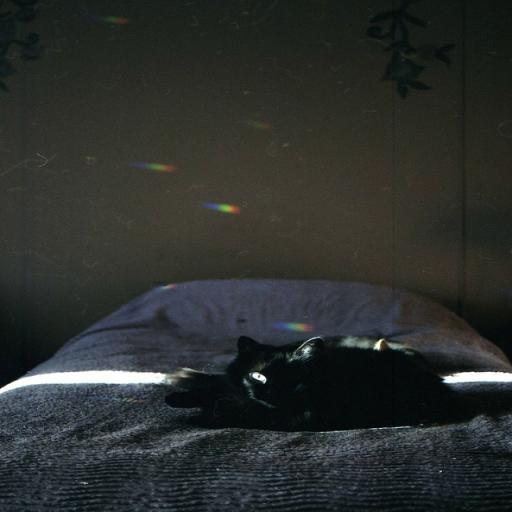bed: (21, 258, 512, 512)
